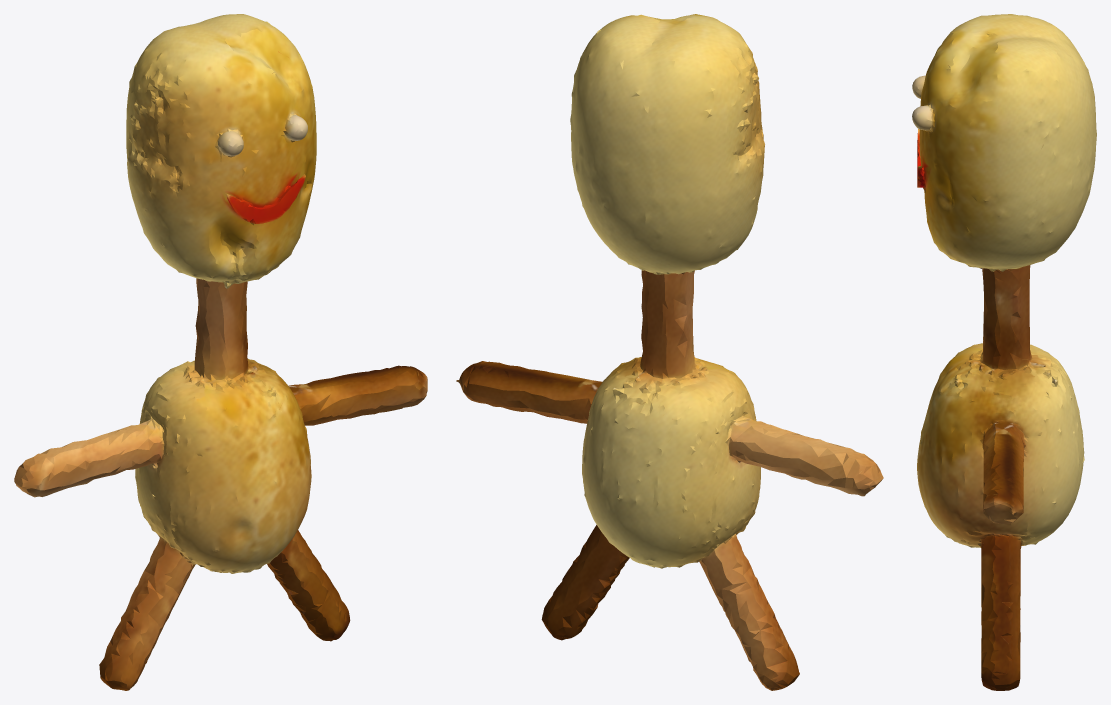
Rendered from concha-frita.glb.
The picture shows the model from 3 angles, left to right: view 1: azimuth 30°, elevation 25°; view 2: azimuth 150°, elevation 25°; view 3: azimuth 270°, elevation 25°; orthographic projection. The views are drawn at different scales.
Visible parts, largest first — view 1: ConchaFrita; view 2: ConchaFrita; view 3: ConchaFrita.
Part boxes in pixels (x1,y1,x2,y2): ConchaFrita: (14,14,427,690); ConchaFrita: (456,14,883,690); ConchaFrita: (912,14,1096,690).
Bounding box in the file's own units: 1.3 × 1.9 × 0.5228.
1 material, 1 textured.
